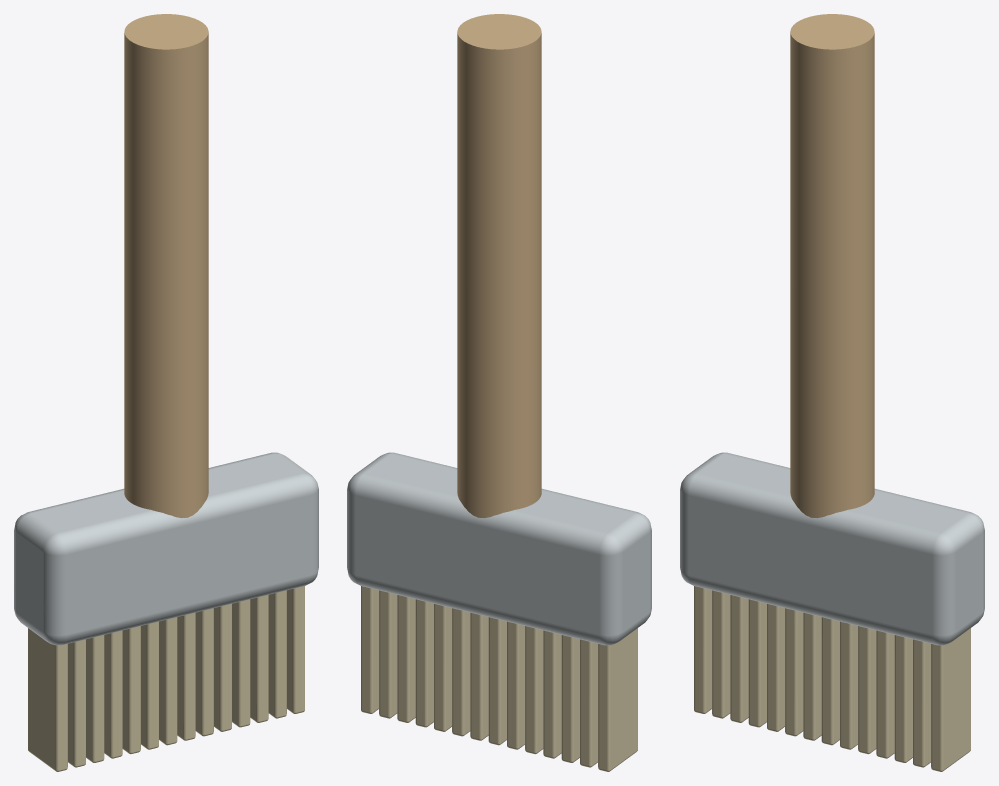
Rendered from bookbinding-and-paper-mill-sizing-brush-0f08e84a__30555.glb.
3 views of the same model, side by side, from view 1: azimuth 30°, elevation 25°; view 2: azimuth 150°, elevation 25°; view 3: azimuth 330°, elevation 25° (orthographic).
Visible parts, largest first — view 1: sizing-brush; view 2: sizing-brush; view 3: sizing-brush.
Boxes of the visible parts, box(x1,y1,x2,y2) form: sizing-brush: box(14, 14, 318, 771); sizing-brush: box(347, 14, 651, 771); sizing-brush: box(680, 14, 984, 771).
Size of the model in its own units: 0.09 by 0.22 by 0.025.
